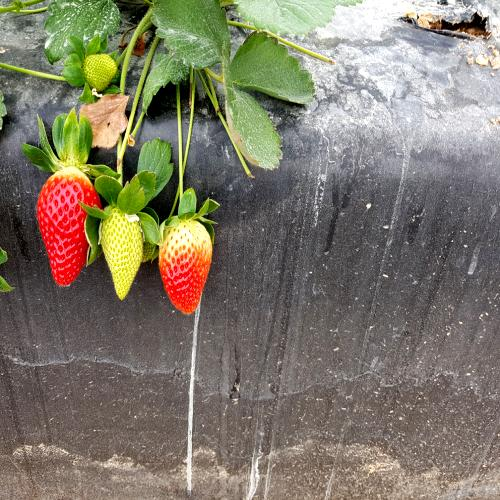partially-ripe: (150, 209, 220, 334)
ripe: (30, 160, 101, 291)
